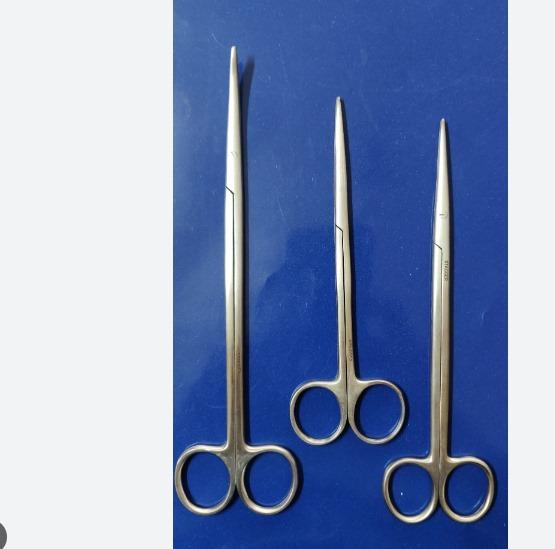Metzenbaum Sciccors: (179, 37, 297, 523), (385, 112, 497, 530), (296, 90, 408, 450)
